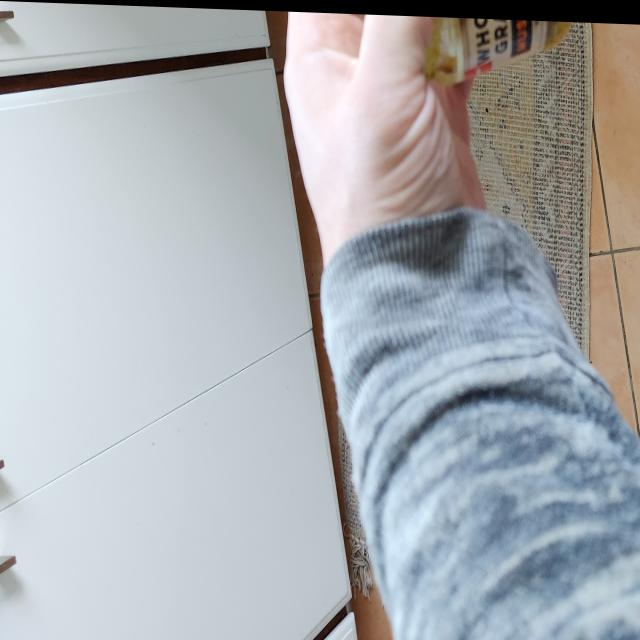mustard: (359, 10, 573, 88)
